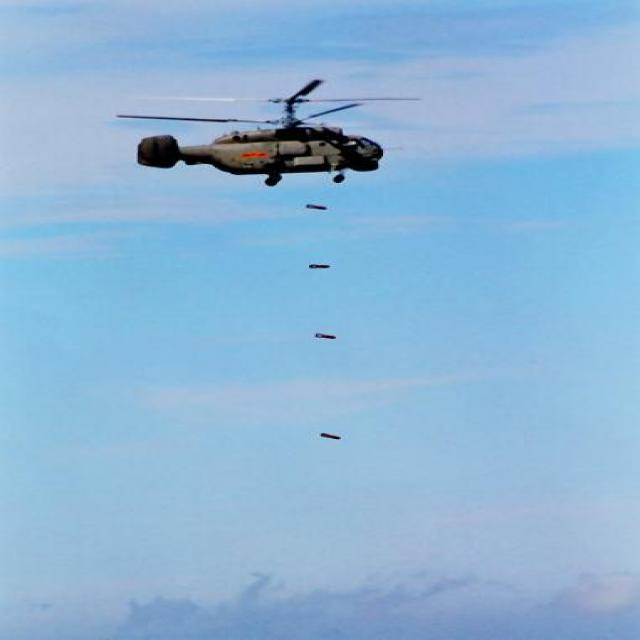MIL_HELO: (52, 52, 474, 189)
